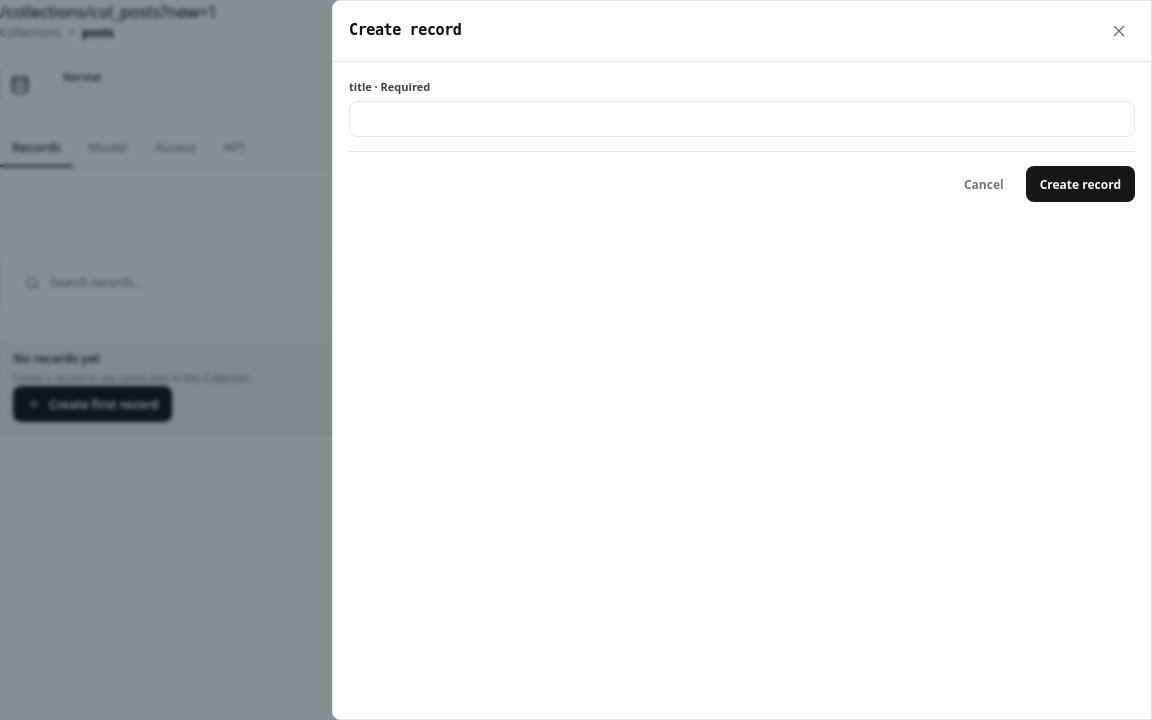
Test: Collection Records and Security pages › creates a durable Record in the same sheet and shows the returned identity
Type "First post" into the field labelled "title · Required". click: (742, 119)
box: [349,101,1135,137]
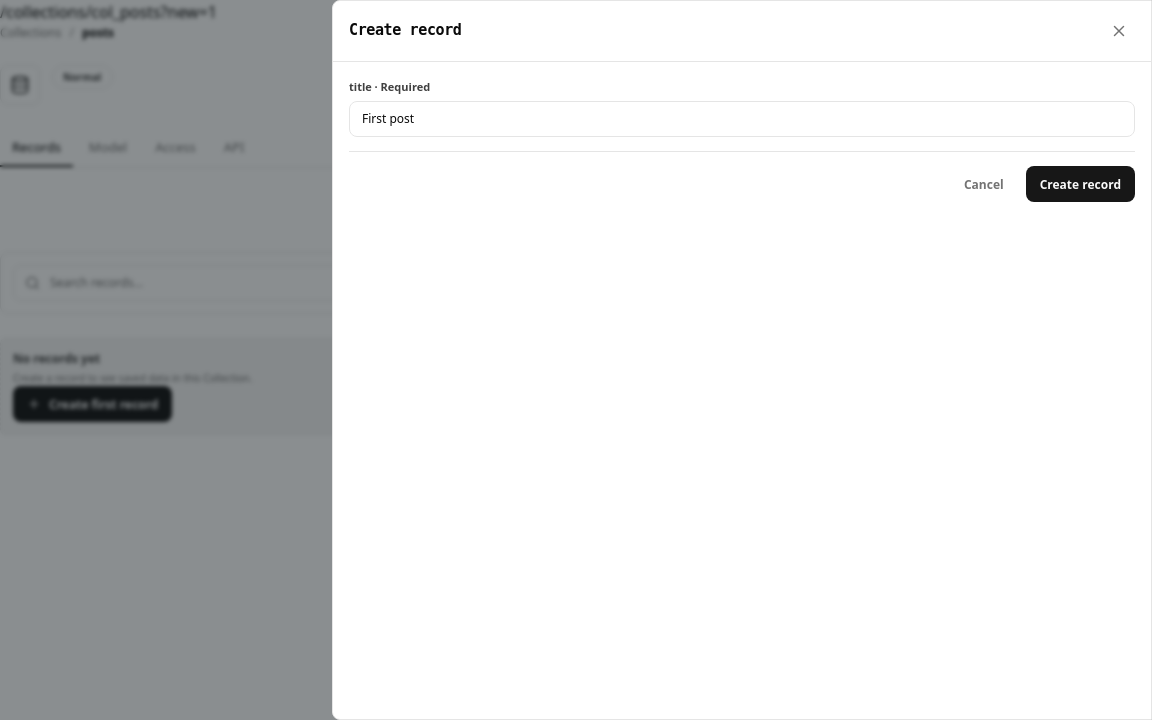
Click the button "Create record". click: (1080, 184)
box: [1026,166,1135,202]
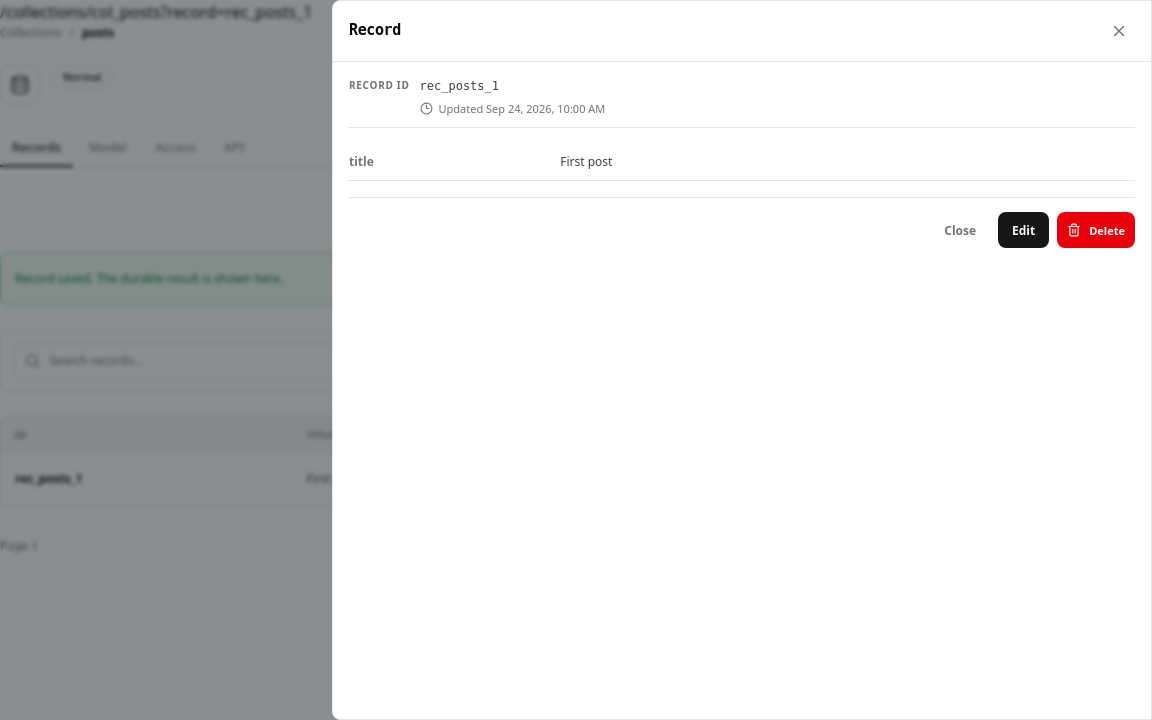
Expected: the text "rec_posts_1" is shown, [420,79,499,93]
Expected: the text "Record saved. The durable result is shown here." is shown, [15,270,283,287]
Expected: the text "First post" is shown, [560,154,612,170]
